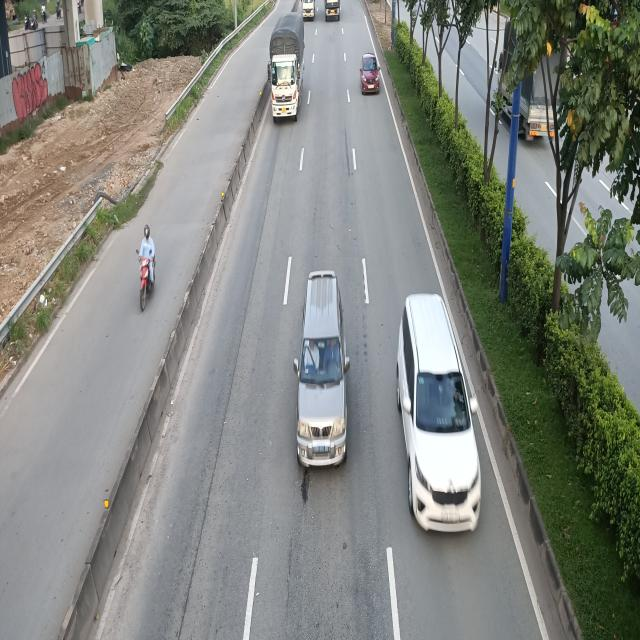car: (395, 296, 481, 536), (295, 274, 353, 465), (359, 53, 380, 96)
truck: (268, 15, 306, 123)
